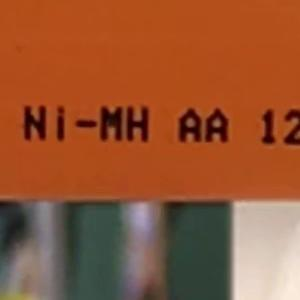NI-MH: (13, 97, 159, 150)
